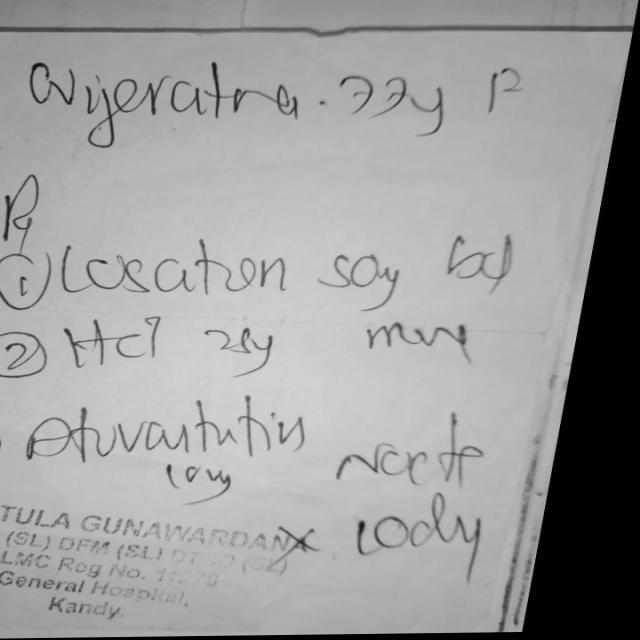Prescription: (36, 386, 510, 578), (66, 227, 530, 310), (71, 305, 495, 379)
